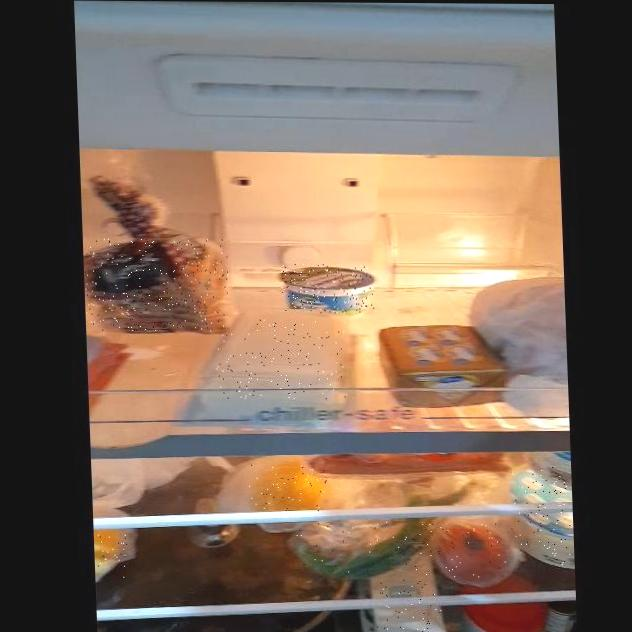bread: (84, 239, 232, 332)
butter: (382, 325, 504, 405)
cheese: (214, 319, 349, 399)
green chilies: (293, 521, 435, 575)
lemon: (246, 465, 329, 512), (97, 531, 128, 578)
milk: (371, 579, 443, 632)
tomato: (437, 523, 514, 580)
yoghurt: (513, 467, 572, 565), (281, 264, 376, 314)
